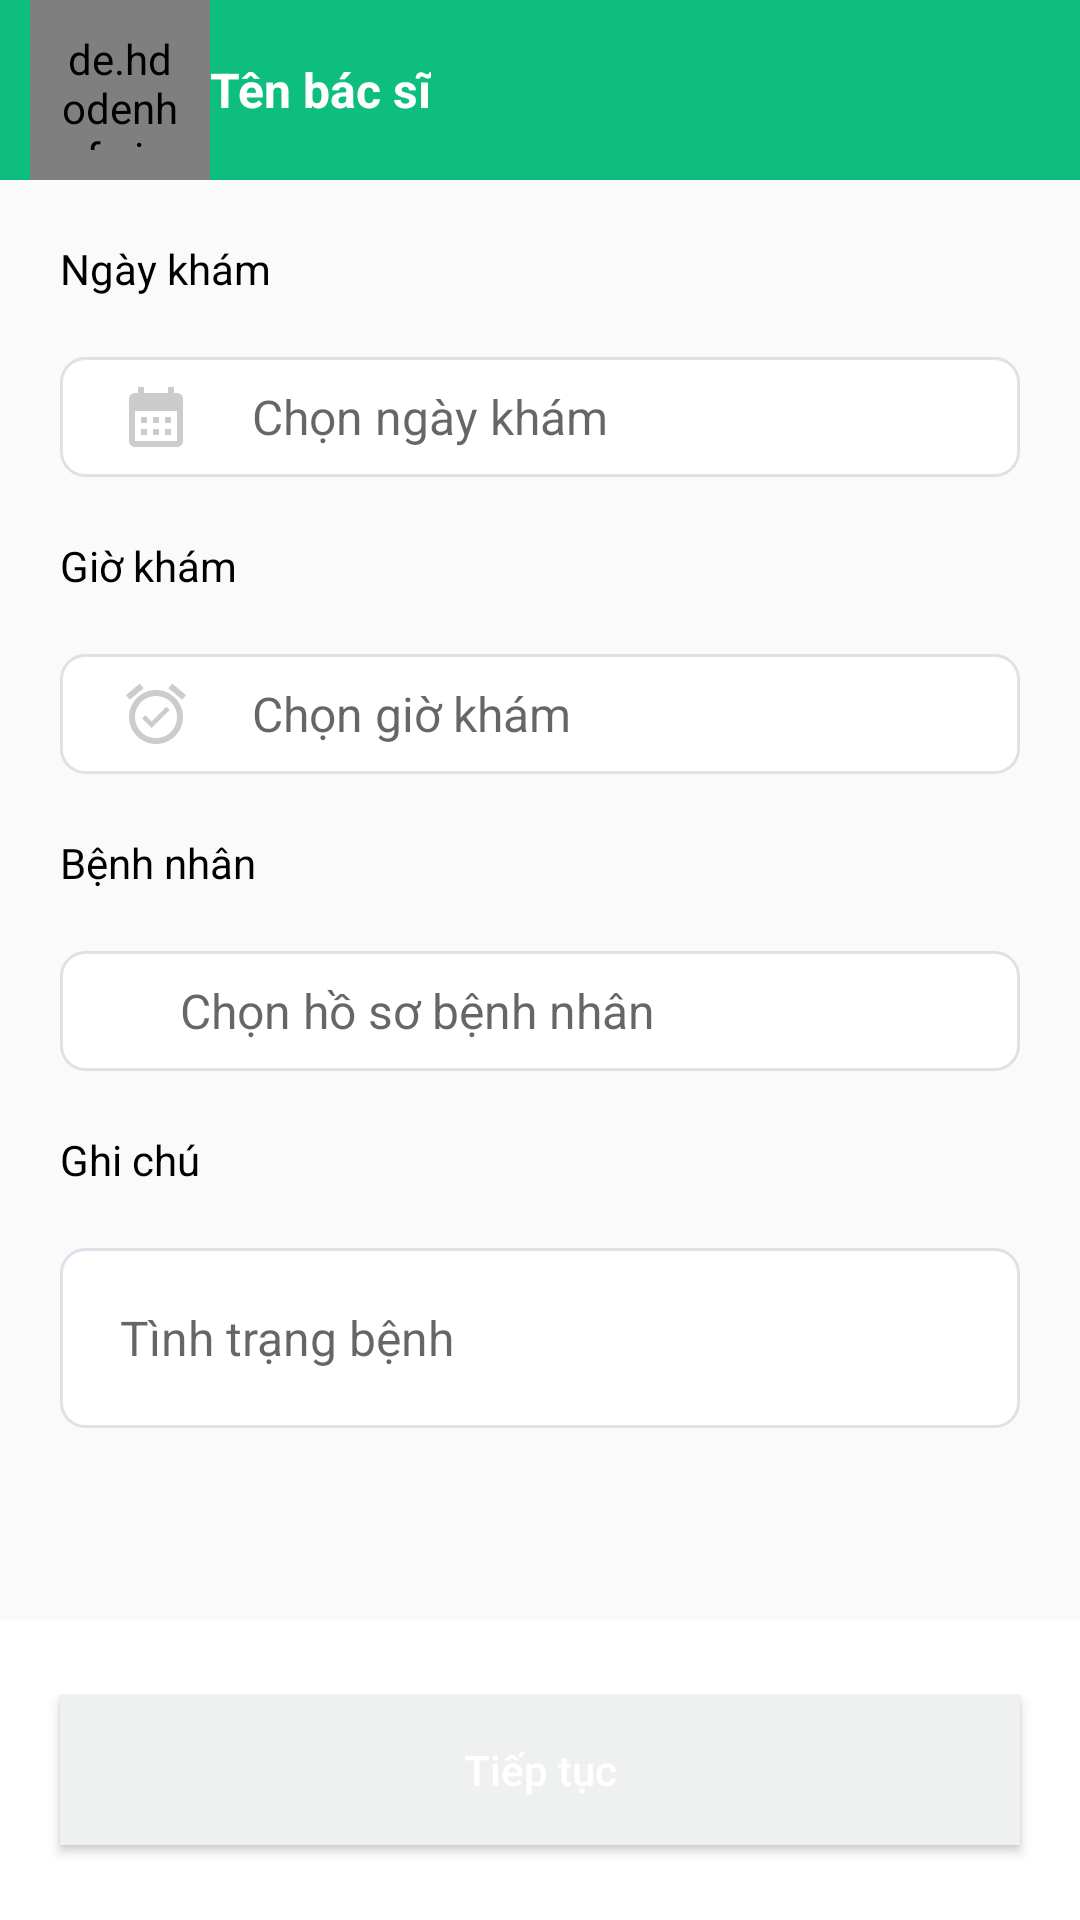

Icon click points for this 1080*1920 phone screenshot, format point (x, y):
alarm: point (156, 714)
calendar: point (156, 417)
